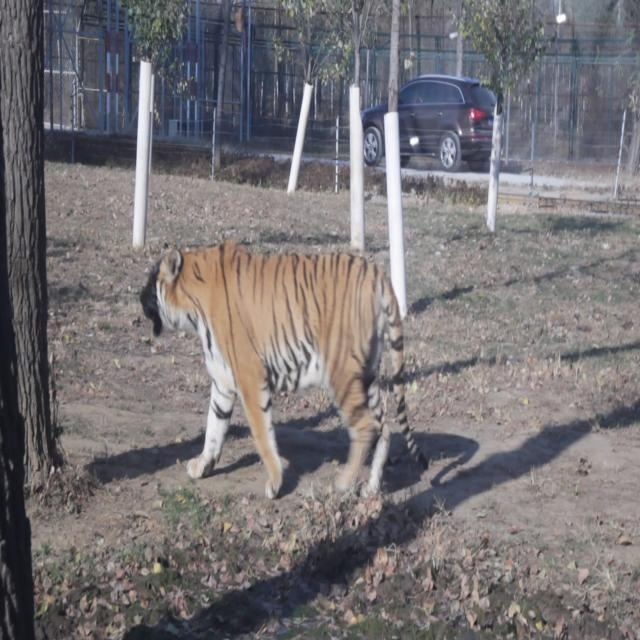Tiger: (127, 225, 471, 535)
